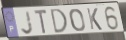6: (104, 5, 120, 32)
D: (50, 8, 70, 35)
J: (20, 10, 35, 36)
K: (86, 7, 104, 31)
O: (68, 8, 86, 33)
T: (33, 9, 49, 36)
